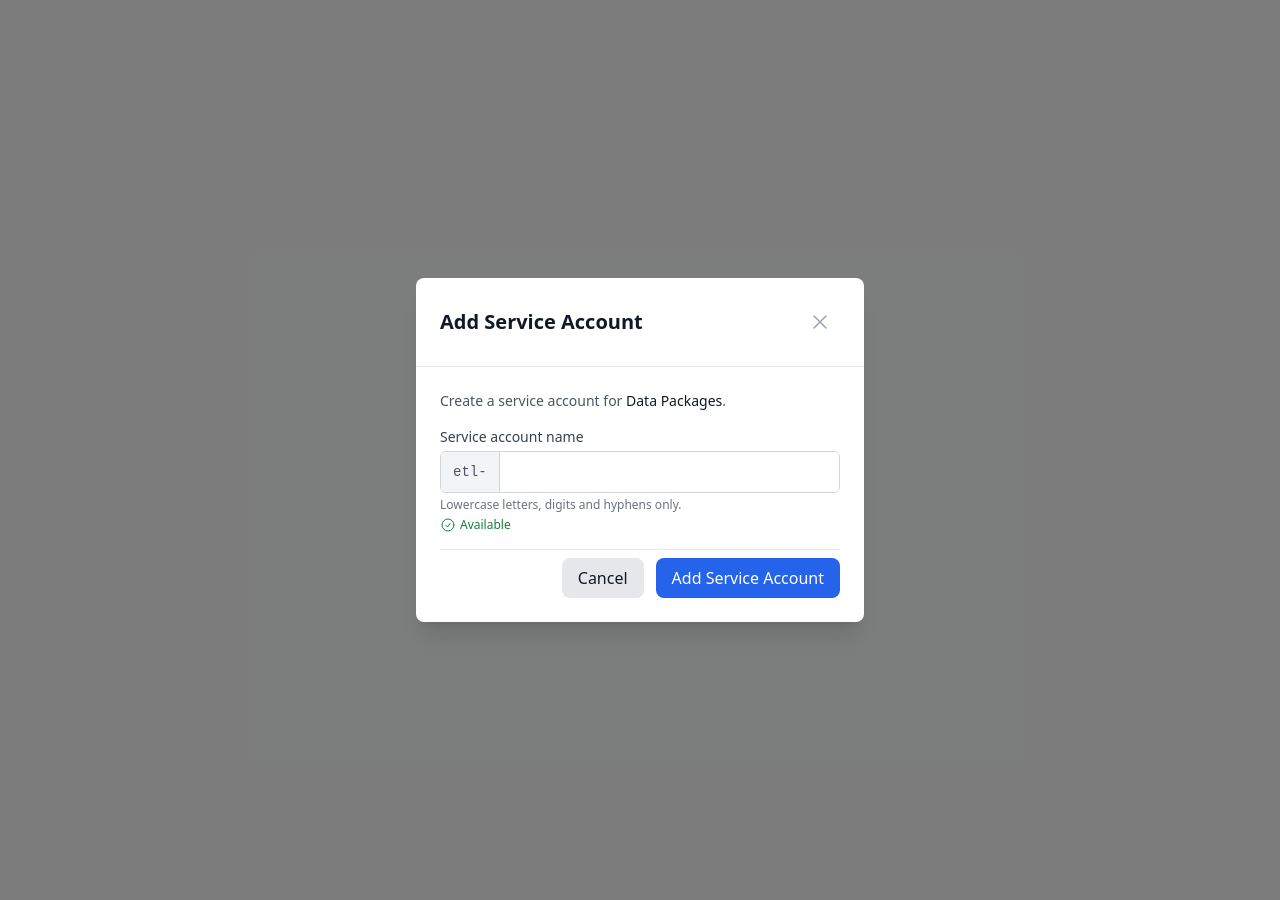
Test: AddServiceAccountDialog (mounted) › disables the submit button once the suffix is cleared
Expected: the button "Add Service Account" is enabled, [656,558,840,598]
Clear the field with id "service-account-suffix" at (669, 472), box [500,452,839,492]
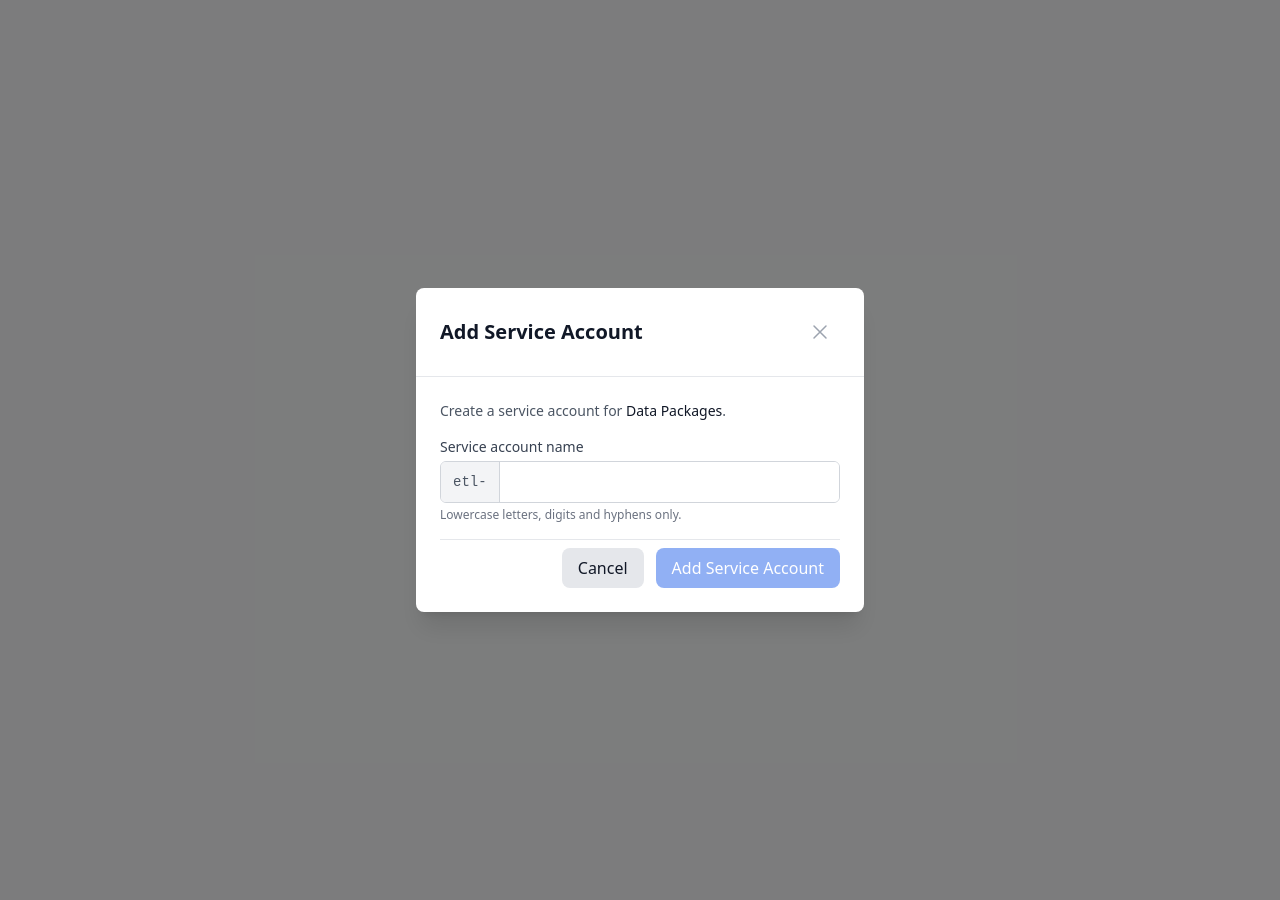
Expected: the button "Add Service Account" is disabled, [656,548,840,588]
